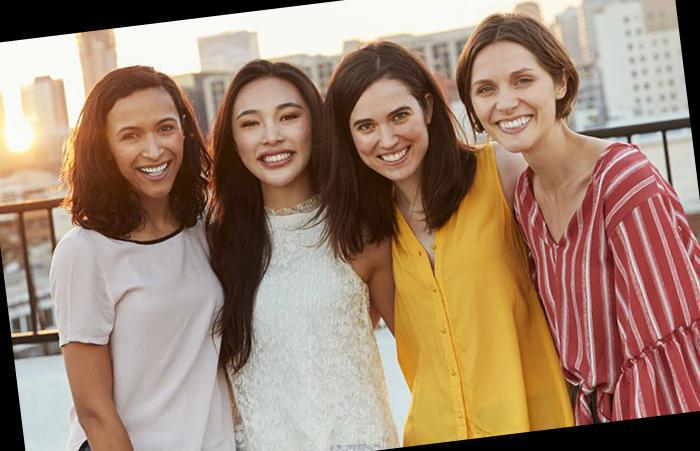Sober: (472, 55, 553, 144), (230, 90, 307, 181), (108, 105, 179, 188), (351, 91, 421, 171)
